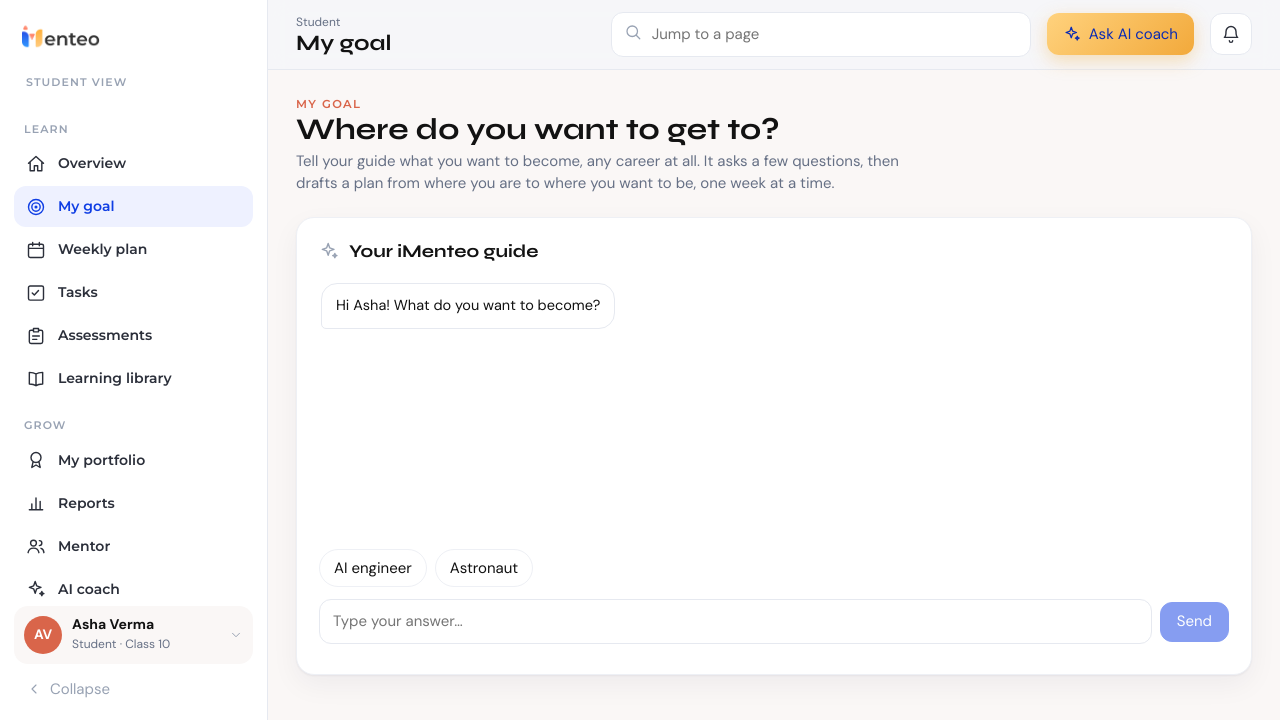
Test: the career chat › if the guide cannot answer, the message stays in the box to send again
Type "I want to be a pilot" into the field named "Your message" at (735, 622), box 319,599 -> 1152,644
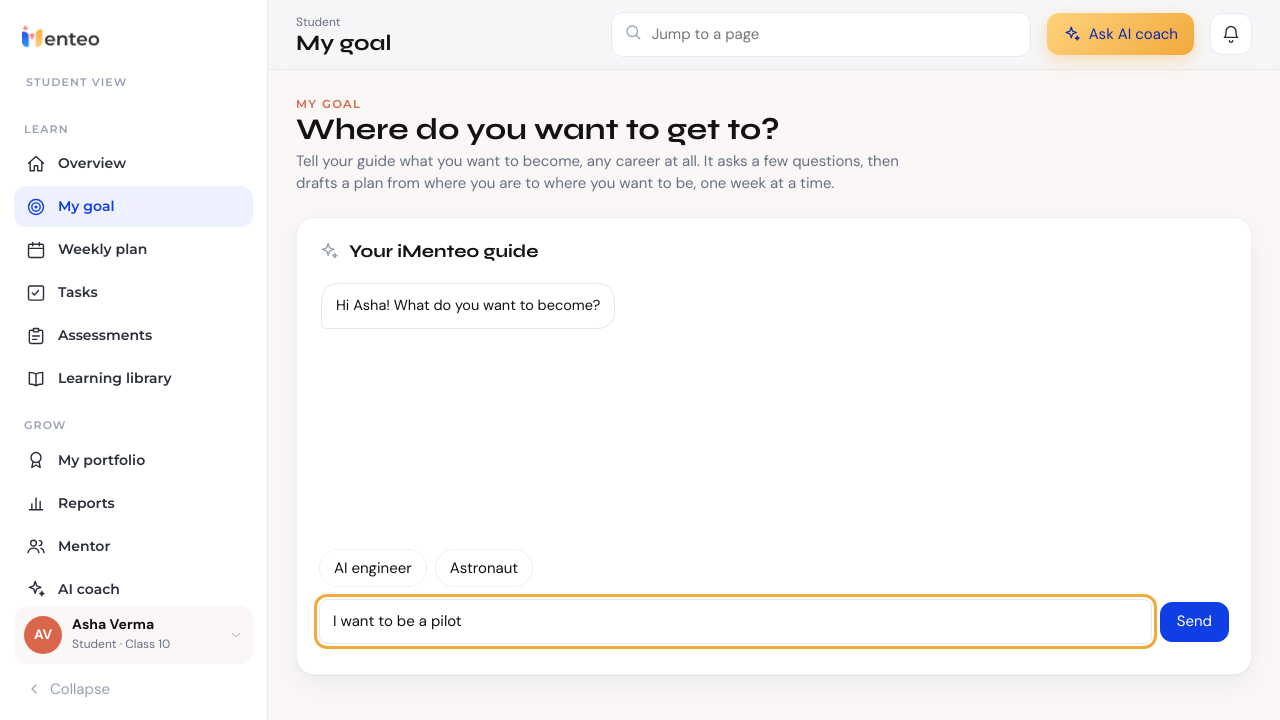
Click the button "Send" at (1194, 622), box 1160,602 -> 1229,642
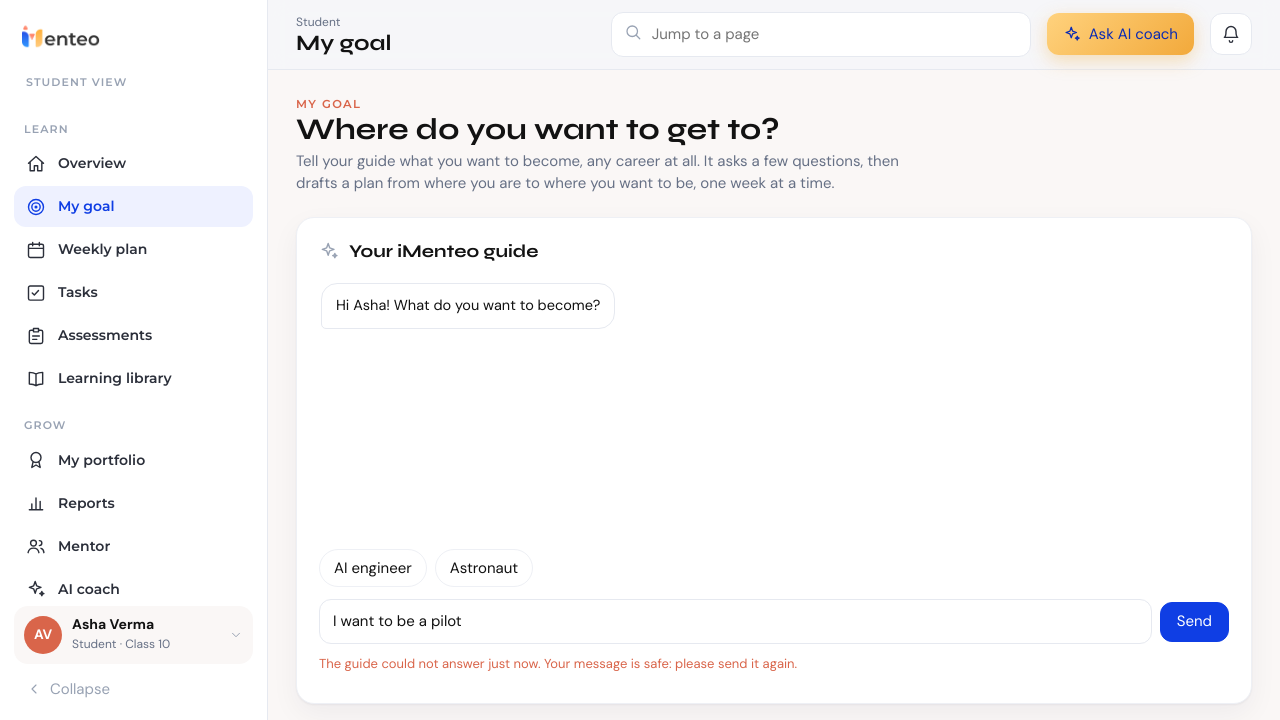
Check: the message shows "send it again", box 319,655 -> 797,672
